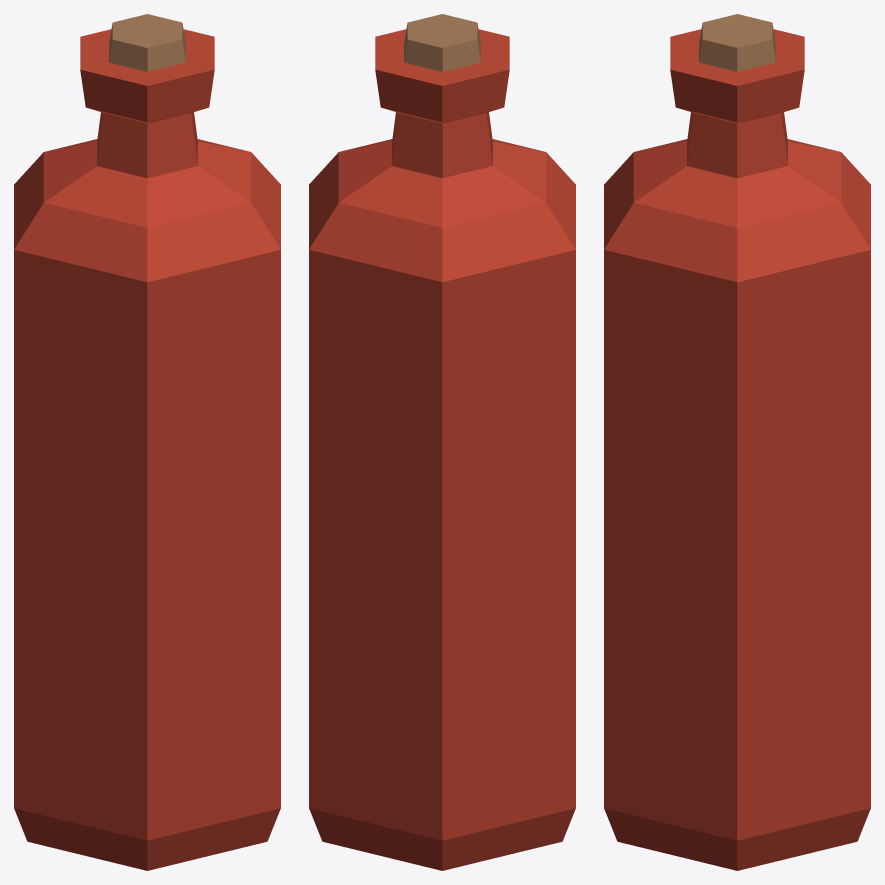
Rendered from potion_1.glb.
The picture shows the model from 3 angles, left to right: view 1: azimuth 30°, elevation 25°; view 2: azimuth 150°, elevation 25°; view 3: azimuth 270°, elevation 25°; orthographic projection.
Parts seen in each view (by area): view 1: potion_1; view 2: potion_1; view 3: potion_1.
Boxes of the visible parts, <box> form: potion_1: <box>14,14,280,870</box>; potion_1: <box>309,14,575,870</box>; potion_1: <box>604,14,870,870</box>.
Size of the model in its own units: 0.132 by 0.3691 by 0.1143.
Materials: 2 (2 with a texture image).
